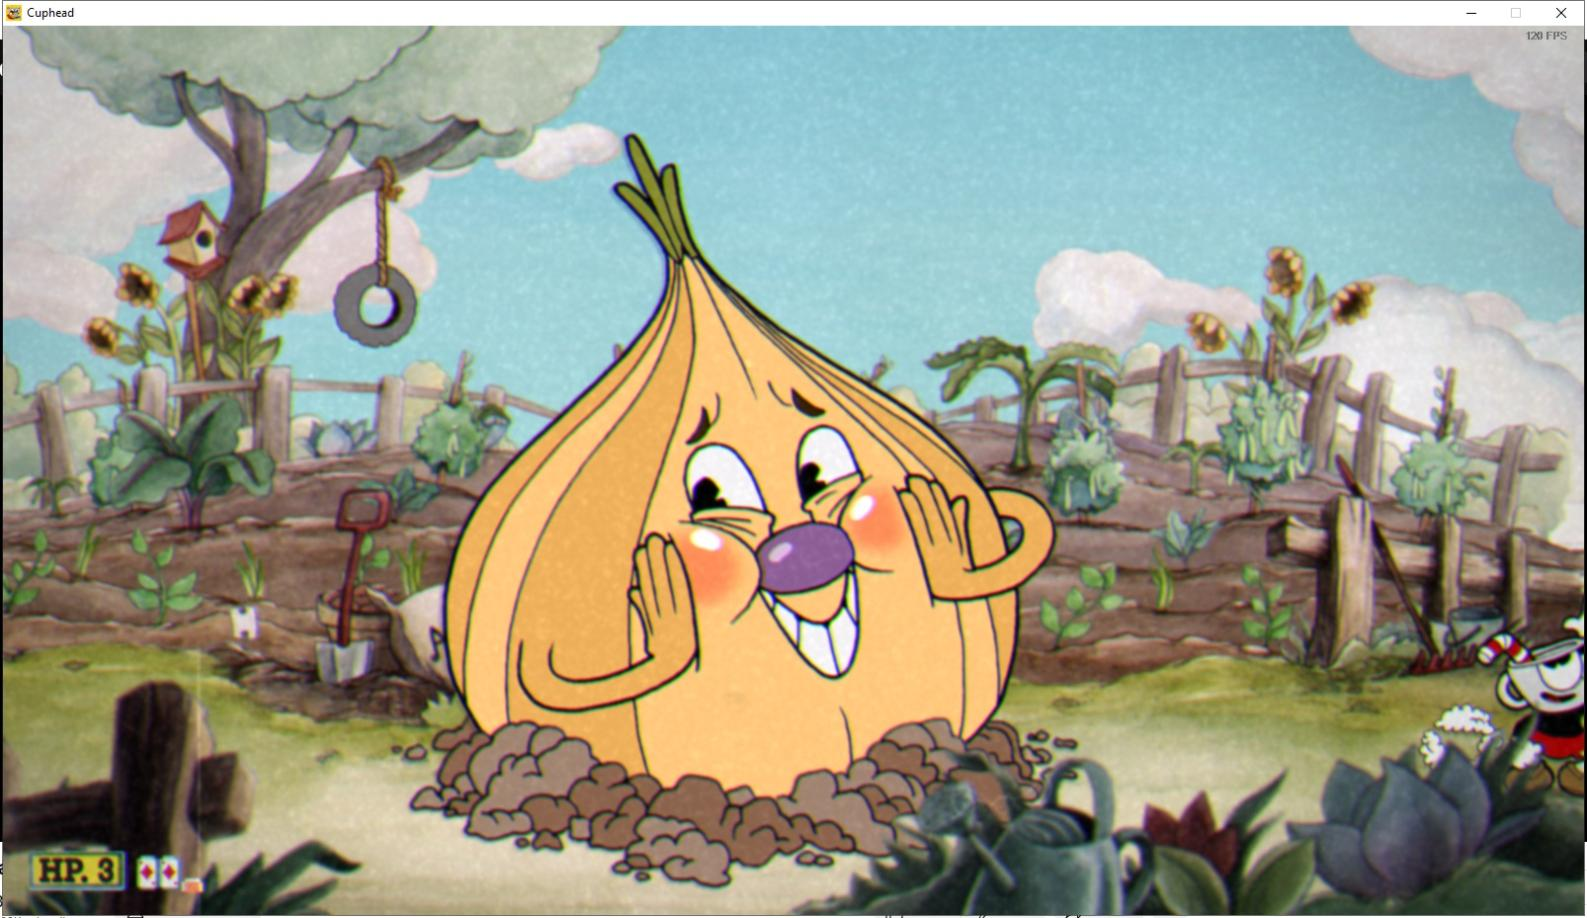hp3: (92, 852, 124, 890)
onion_boss: (426, 128, 1070, 833)
player: (1472, 592, 1587, 800)
